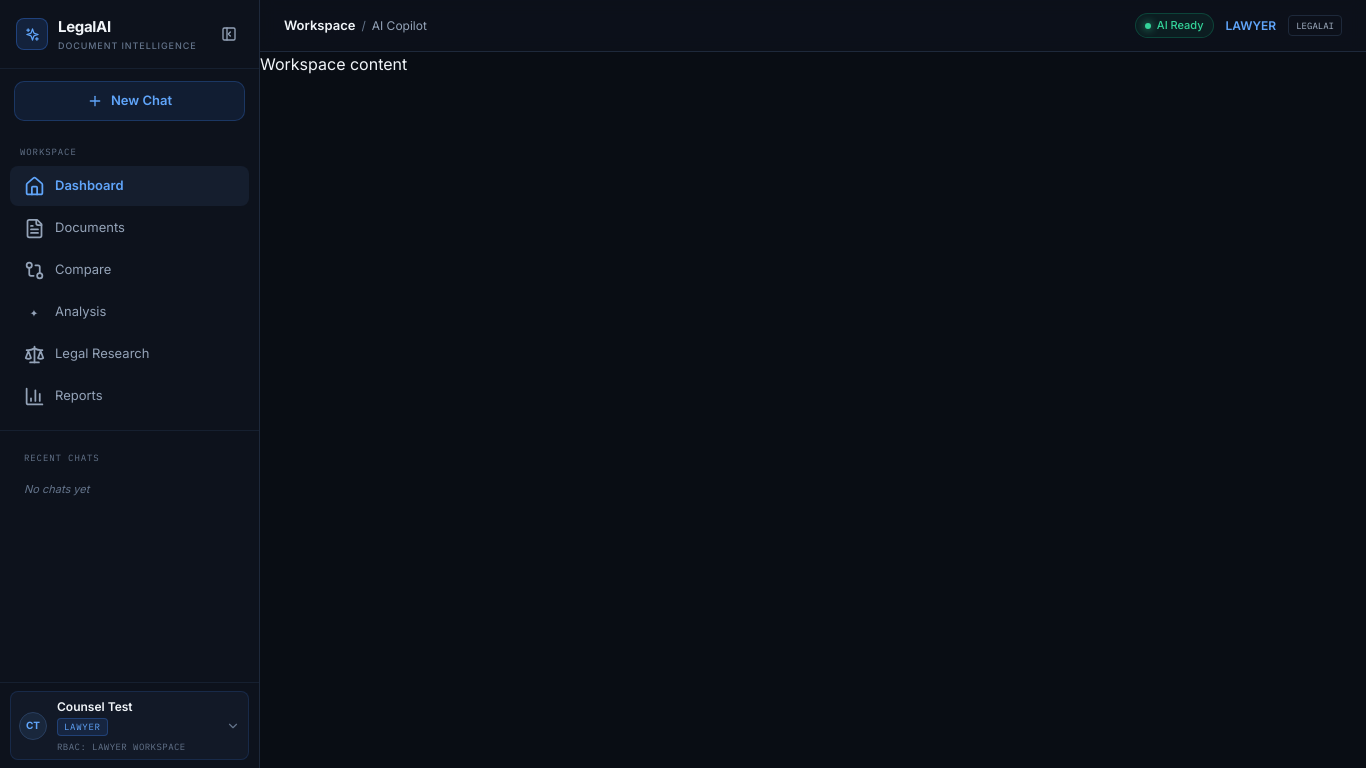
Test: AppShell Sidebar Navigation & Layout › clicking the LegalAI logo in collapsed state expands the sidebar back to full view
# Collapse the sidebar
Click the button named "collapse sidebar".
click(229, 34)  # box [215,20,243,48]
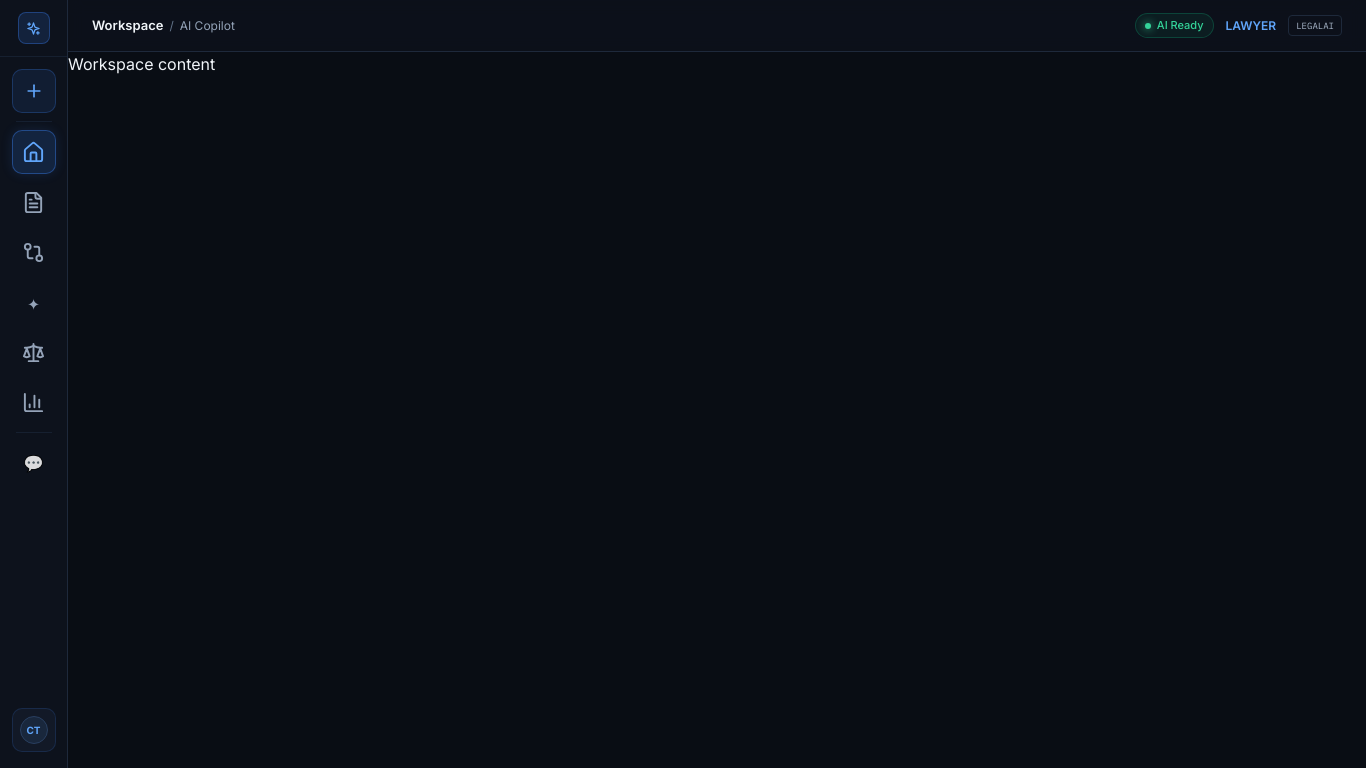
Result: the button named "open sidebar" is shown
# Click the LegalAI logo to expand
Click the button named "open sidebar".
click(34, 28)  # box [18,12,50,44]
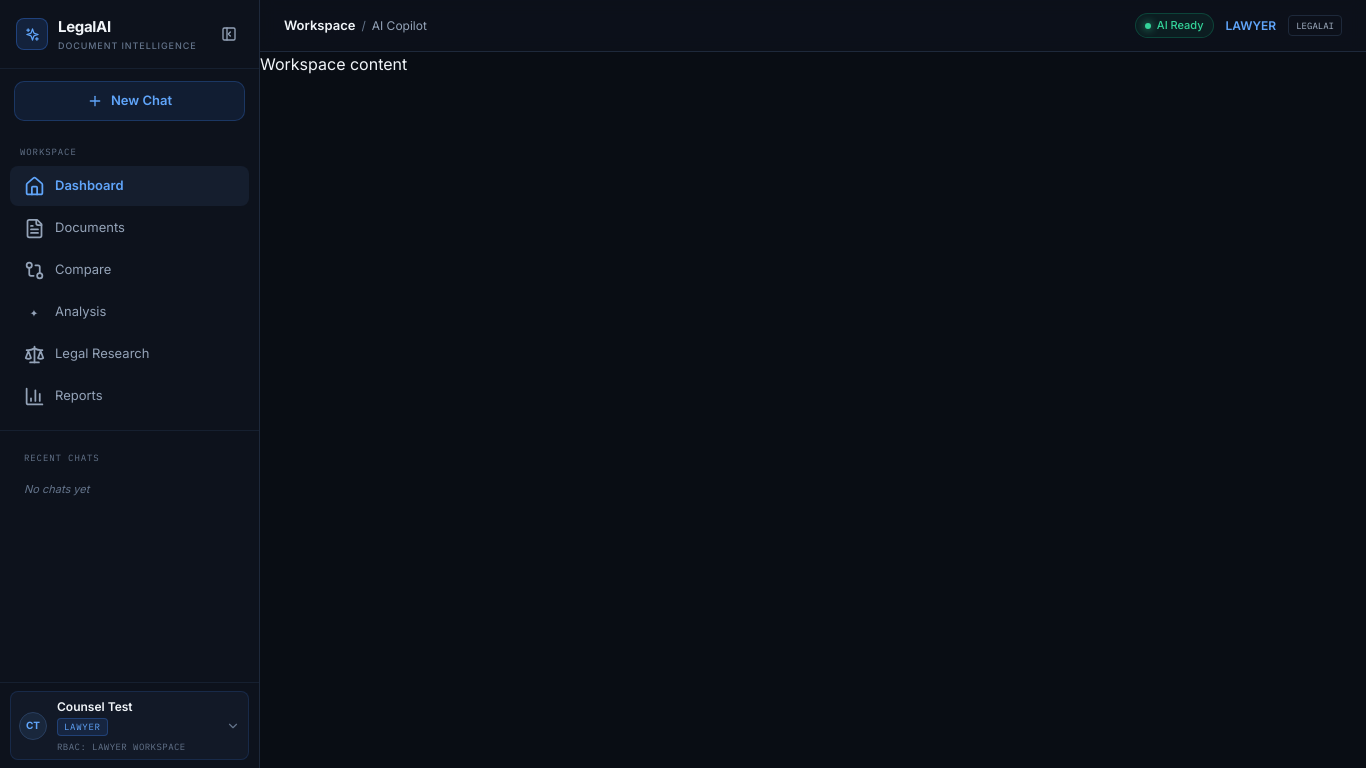
Result: the text "LegalAI" is shown at [58,17,111,36]
Result: the text "Document Intelligence" is shown at [58,38,196,52]
Result: the button named "collapse sidebar" is shown at [215,20,243,48]
